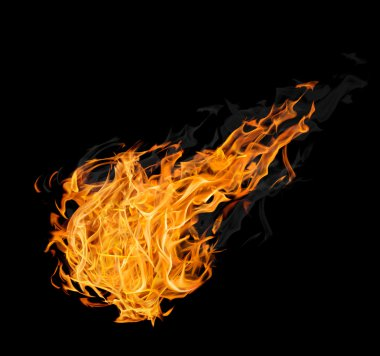fire: (42, 100, 271, 327)
